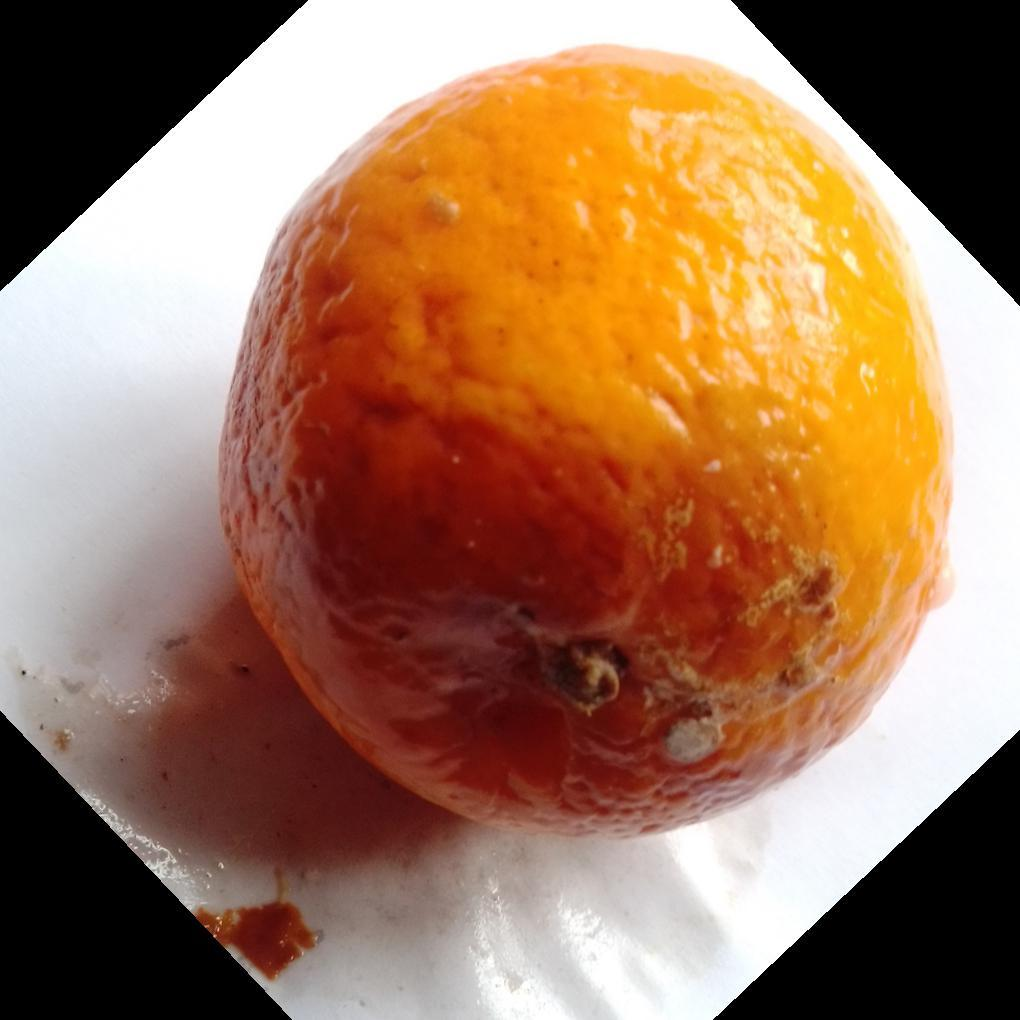FreshOrange: (213, 43, 955, 844)
